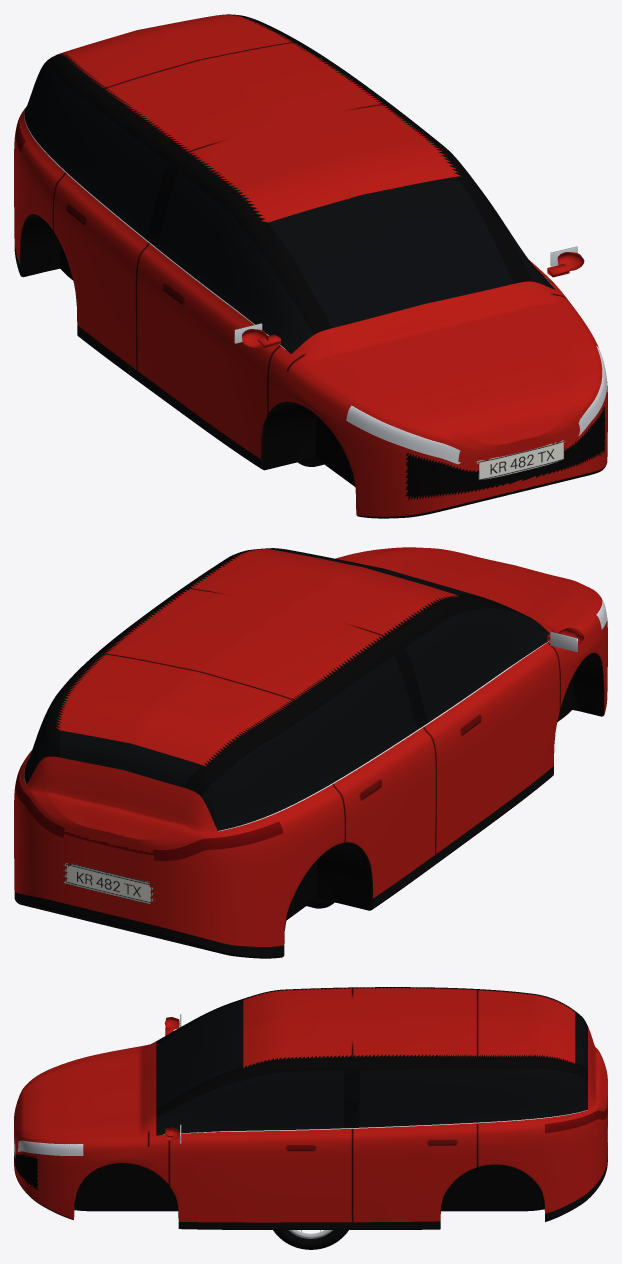
The model's file is hatch.glb.
3 views of the same model, one above another, from view 1: azimuth 30°, elevation 25°; view 2: azimuth 150°, elevation 25°; view 3: azimuth 270°, elevation 25° (orthographic). The views are drawn at different scales.
Parts seen in each view (by area): view 1: body; view 2: body; view 3: body, wheel.
Boxes of the visible parts, left/top/right/bottom form: body: left=14, top=14, right=607, bottom=518; body: left=14, top=547, right=607, bottom=958; body: left=14, top=987, right=607, bottom=1229; wheel: left=273, top=1230, right=348, bottom=1249.
Bounding box in the file's own units: 2.04 × 1.8 × 4.28.
17 materials, 2 textured.
